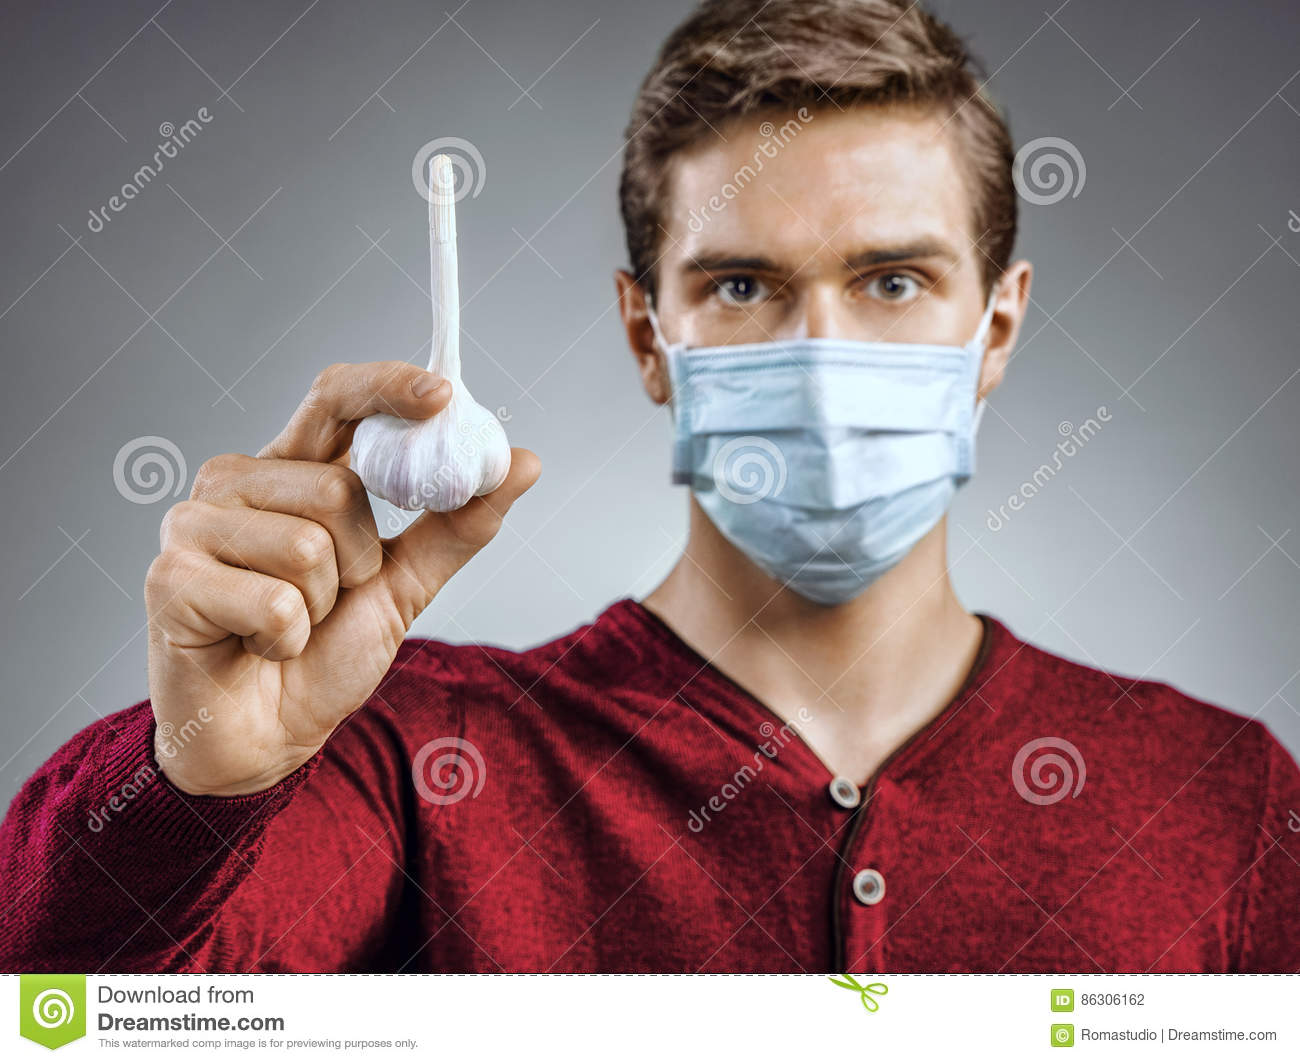mask: (671, 341, 983, 613)
